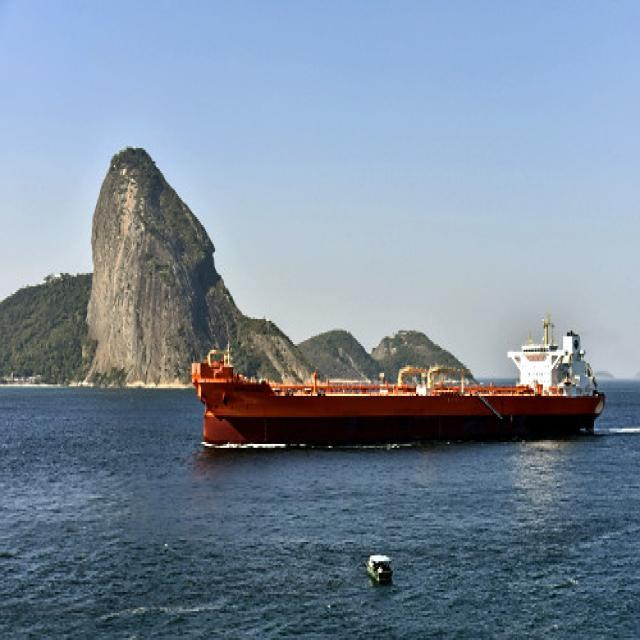Tanker: (191, 320, 606, 448)
